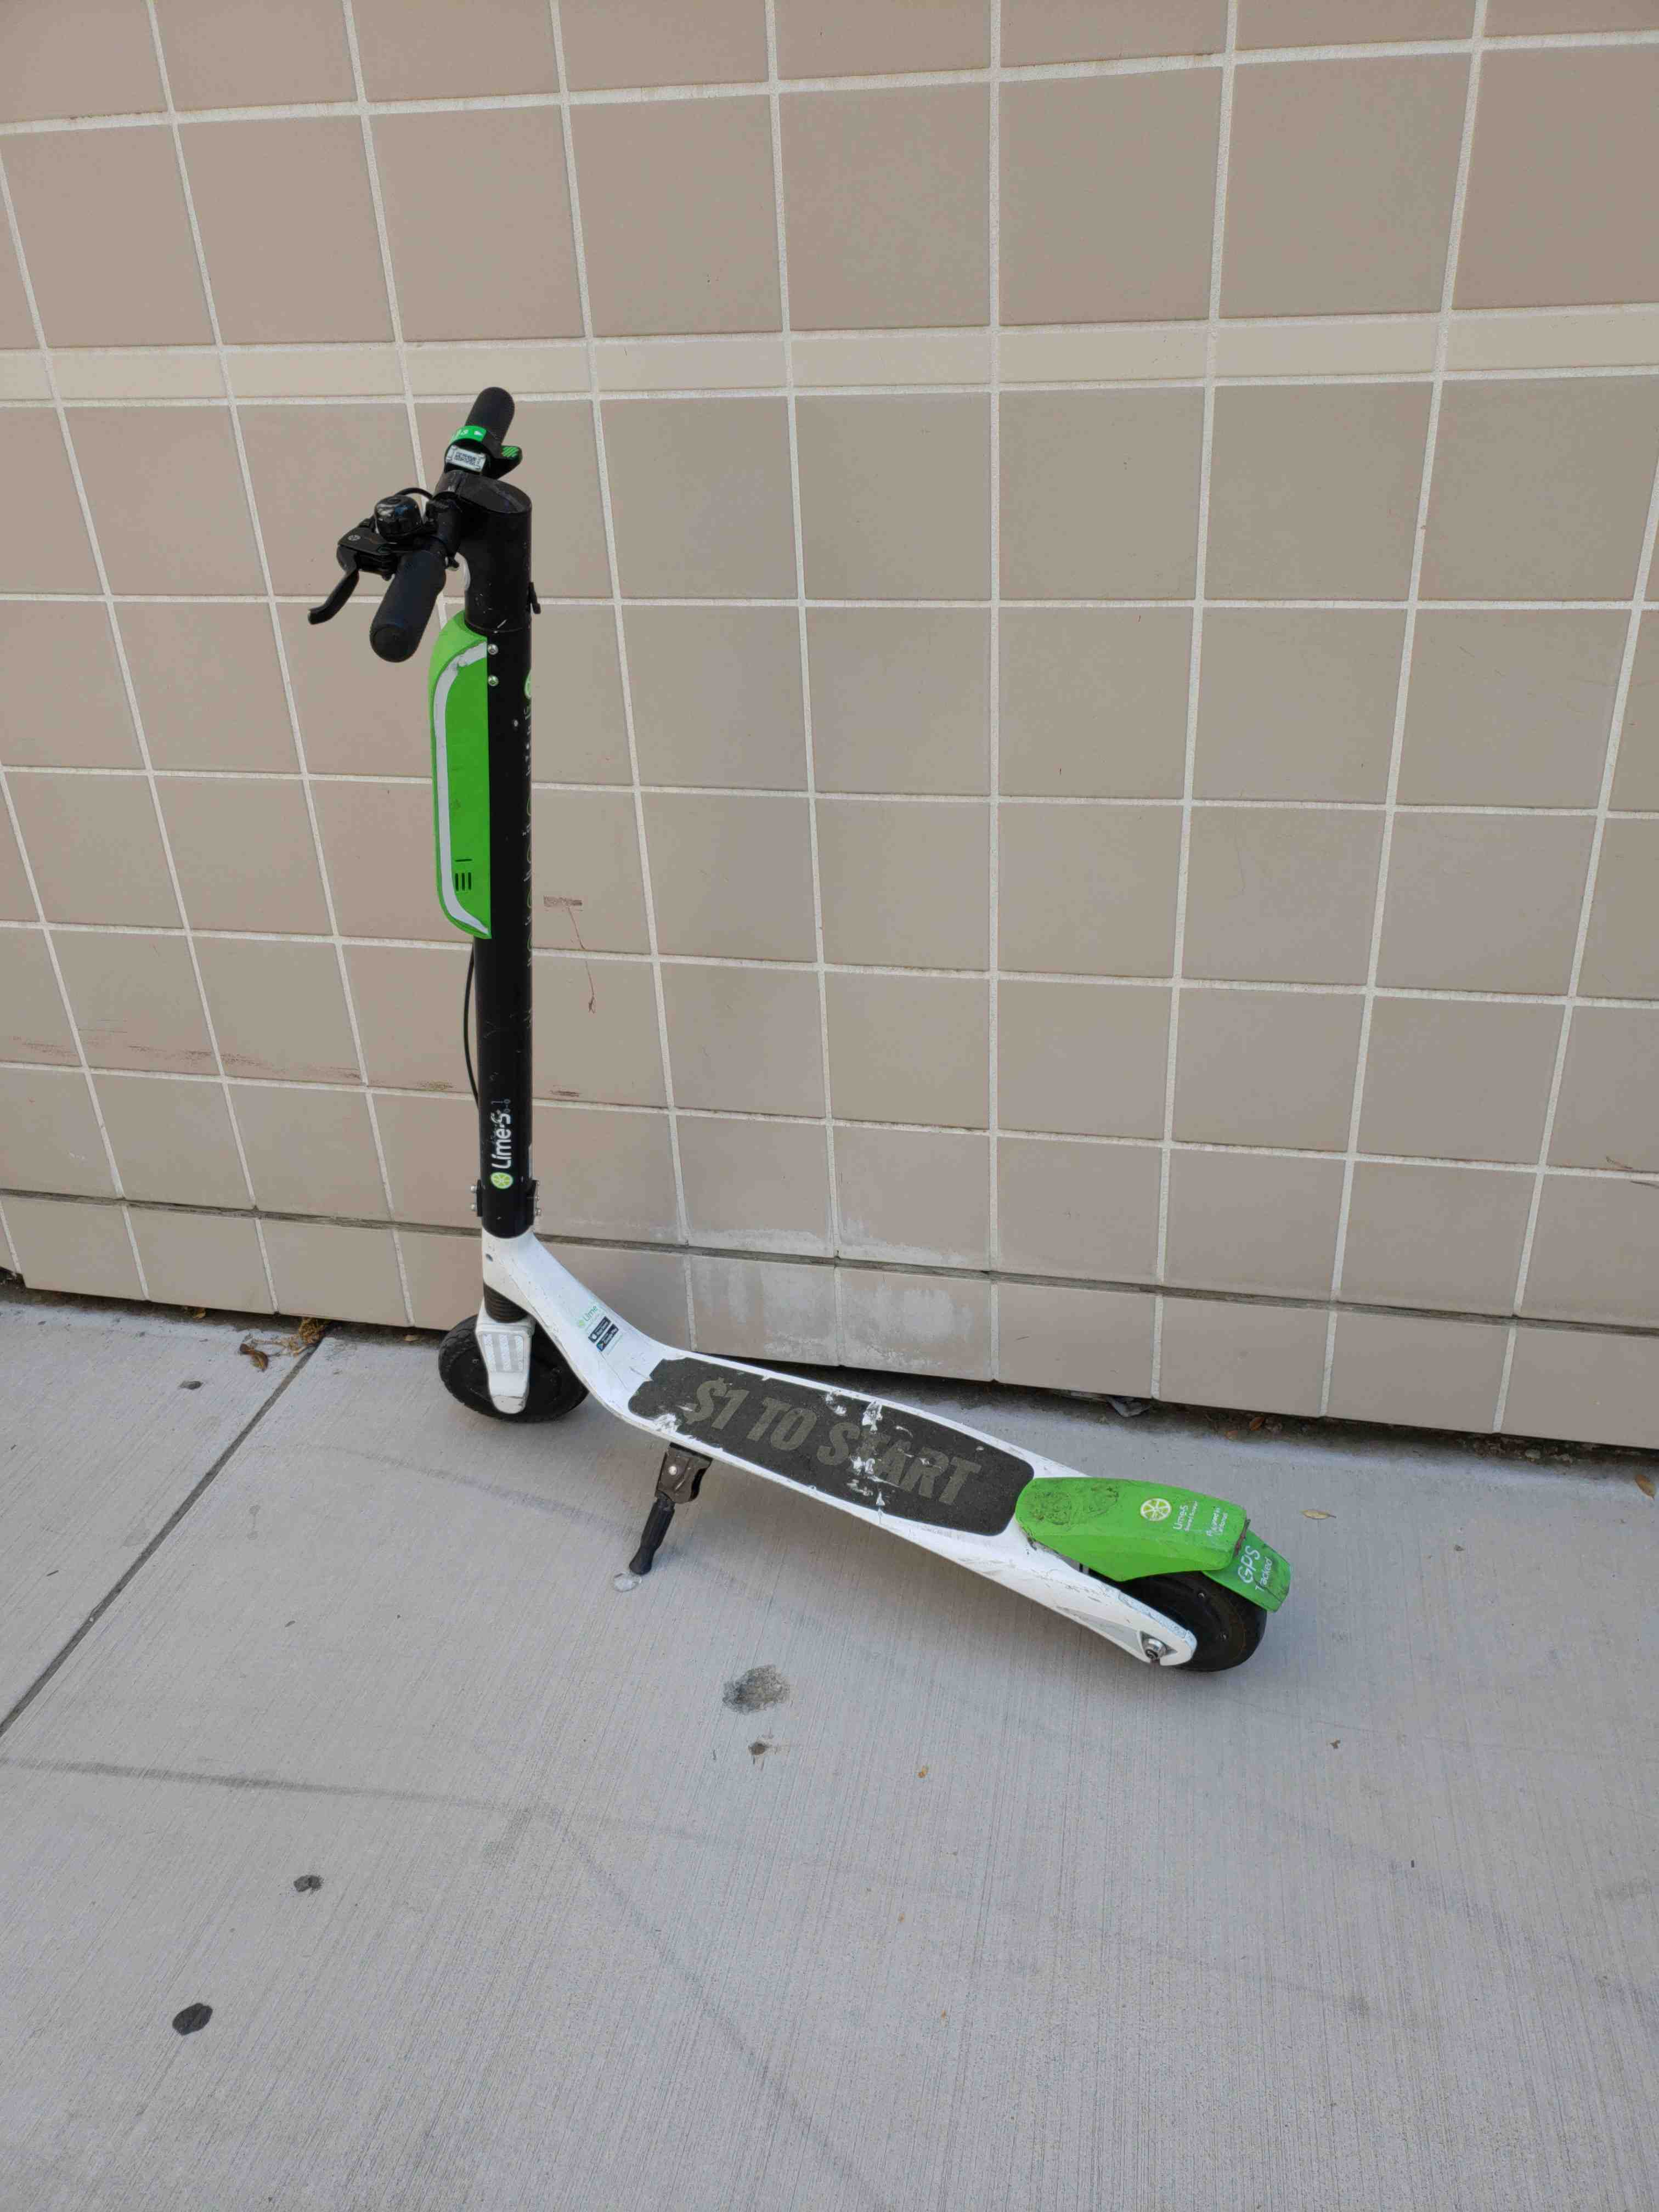scooter: (254, 345, 1302, 1714)
